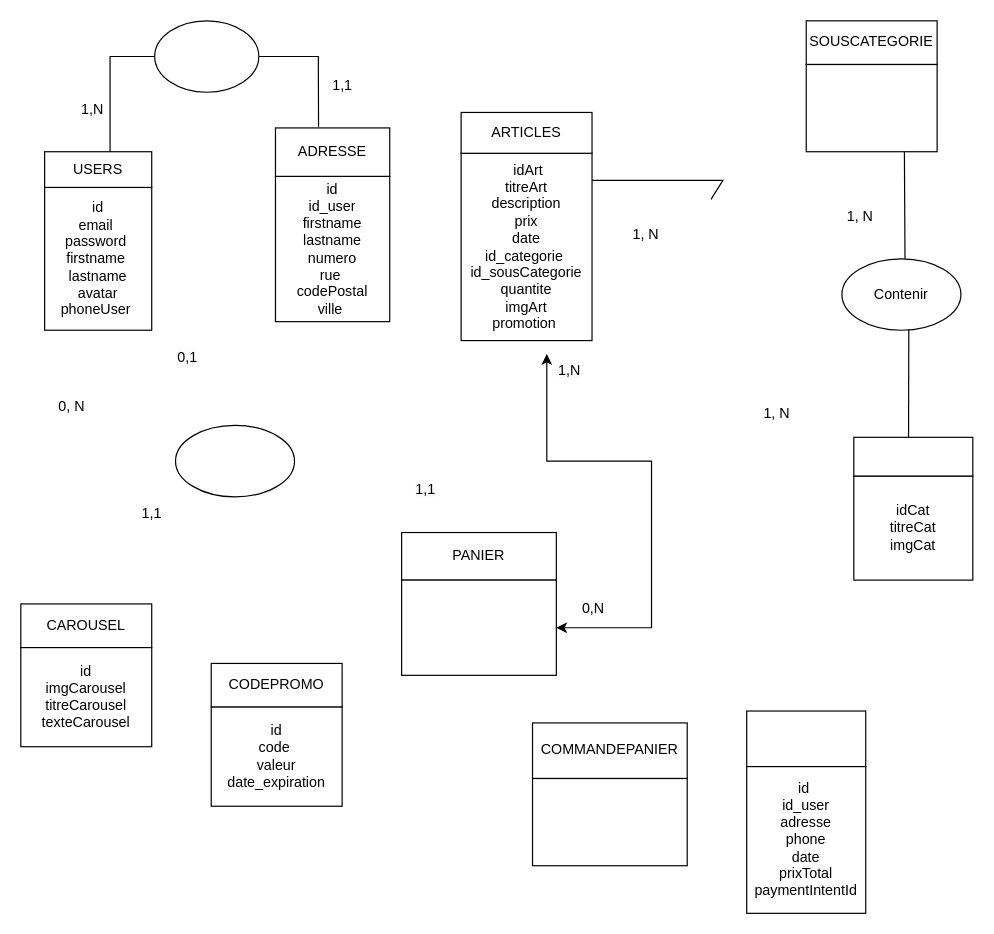
Some shapes in this 994 by 934 pixel diagram are drawn without their labels. Here are the shapes that lost their labels. From the top down, the centre of each, then its label:
At (206,56): "Habiter".
At (871,107): "id titreSousCat imgSousCat id_parent".
At (234,460): "Passer".
At (913,456): "CATEGORIE".
At (478,627): "PK id id_user id_article".
At (806,738): "COMMANDE".
At (609,821): "id id_commande id_article quantite_art".
